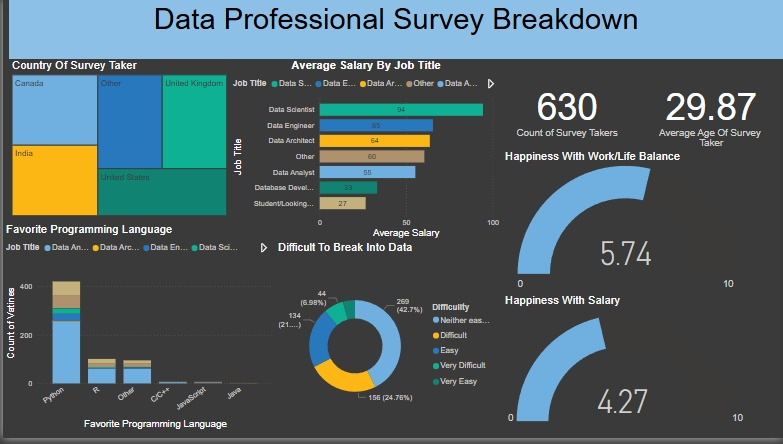

The page's visual inventory and layout, read from the dashboard file:
{"tool":"powerbi","page":{"name":"Page 1","canvas":[1280,720],"ordinal":0},"visuals":[{"type":"textbox","box":[10.1,0,1269.9,99.1],"z":0},{"type":"card","fields":{"Values":["Count(Data Professional Survey.Unique ID)"]},"box":[806.3,99.1,236.9,166.3],"z":1},{"type":"card","fields":{"Values":["Avg(Data Professional Survey.Q10 - Current Age)"]},"box":[1043.1,99.1,236.9,166.3],"z":2},{"type":"barChart","title":"Average Salary By Job Title","fields":{"Category":["Data Professional Survey.Q1 - Which Title Best Fits your Current Role?.1"],"Y":["Avg(Data Professional Survey.Avarage Salary)"],"Series":["Data Professional Survey.Q1 - Which Title Best Fits your Current Role?.1"]},"box":[371.7,98.3,446.7,298.3],"z":3},{"type":"columnChart","title":" Favorite Programming Language","fields":{"Category":["Data Professional Survey.Q5 - Favorite Programming Language.1"],"Y":["CountNonNull(Data Professional Survey.Unique ID)"],"Series":["Data Professional Survey.Q1 - Which Title Best Fits your Current Role?.1"]},"box":[0,366.7,446.7,343.3],"z":4},{"type":"treemap","title":"Country Of Survey Taker","fields":{"Group":["Data Professional Survey.Q11 - Which Country do you live in?.1"],"Values":["Count(Data Professional Survey.Q11 - Which Country do you live in?.1)"]},"box":[10,98.3,361.7,261.7],"z":5},{"type":"gauge","title":"Happiness With Salary","fields":{"Y":["Avg(Data Professional Survey.Q6 - How Happy are you in your Current Position with the following? (Salary))"],"MinValue":["Min(Data Professional Survey.Q6 - How Happy are you in your Current Position with the following? (Salary))"],"MaxValue":["Max(Data Professional Survey.Q6 - How Happy are you in your Current Position with the following? (Salary))"]},"box":[818.3,483.3,405,226.7],"z":6},{"type":"gauge","title":"Happiness With Work/Life Balance","fields":{"Y":["Avg(Data Professional Survey.Q6 - How Happy are you in your Current Position with the following? (Work/Life Balance))"],"MinValue":["Min(Data Professional Survey.Q6 - How Happy are you in your Current Position with the following? (Work/Life Balance))"],"MaxValue":["Max(Data Professional Survey.Q6 - How Happy are you in your Current Position with the following? (Work/Life Balance))"],"TargetValue":["Sum(Data Professional Survey.Q6 - How Happy are you in your Current Position with the following? (Work/Life Balance))"]},"box":[818.3,248.3,405,235],"z":7},{"type":"donutChart","title":"Difficult To Break Into Data","fields":{"Category":["Data Professional Survey.Q7 - How difficult was it for you to break into Data?"],"Y":["CountNonNull(Data Professional Survey.Q7 - How difficult was it for you to break into Data?)"]},"box":[446.7,396.7,371.7,323.3],"z":8}]}

Visuals, with their boxes in screenshot pixels (x1, y1, x2, y2), scaled from the page's 1280x720 canvas onto the 783x444 screenshot:
textbox: <box>6,0,782,61</box>
card - Count(Data Professional Survey.Unique ID): <box>493,61,638,164</box>
card - Avg(Data Professional Survey.Q10 - Current Age): <box>638,61,782,164</box>
"Average Salary By Job Title" barChart: <box>227,61,501,245</box>
" Favorite Programming Language" columnChart: <box>0,226,273,438</box>
"Country Of Survey Taker" treemap: <box>6,61,227,222</box>
"Happiness With Salary" gauge: <box>501,298,748,438</box>
"Happiness With Work/Life Balance" gauge: <box>501,153,748,298</box>
"Difficult To Break Into Data" donutChart: <box>273,245,501,443</box>
